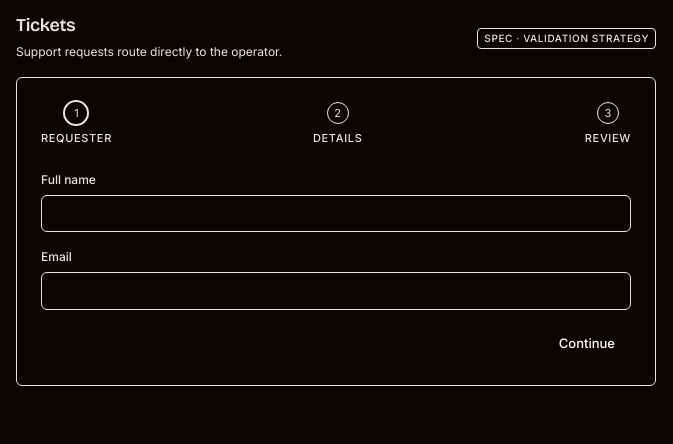
Test case: TicketsModule › blocks step 1 on invalid input
The image size is (673, 444).
Click the button "Continue": (587, 343) [543, 326, 631, 361]
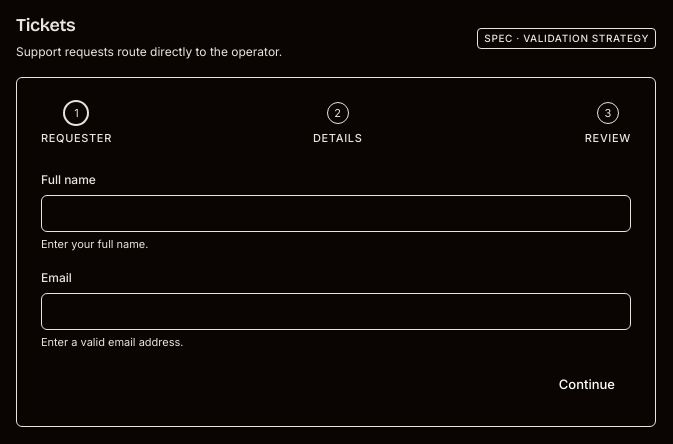
Result: the text "Enter your full name." is shown at [41, 237, 148, 251]
